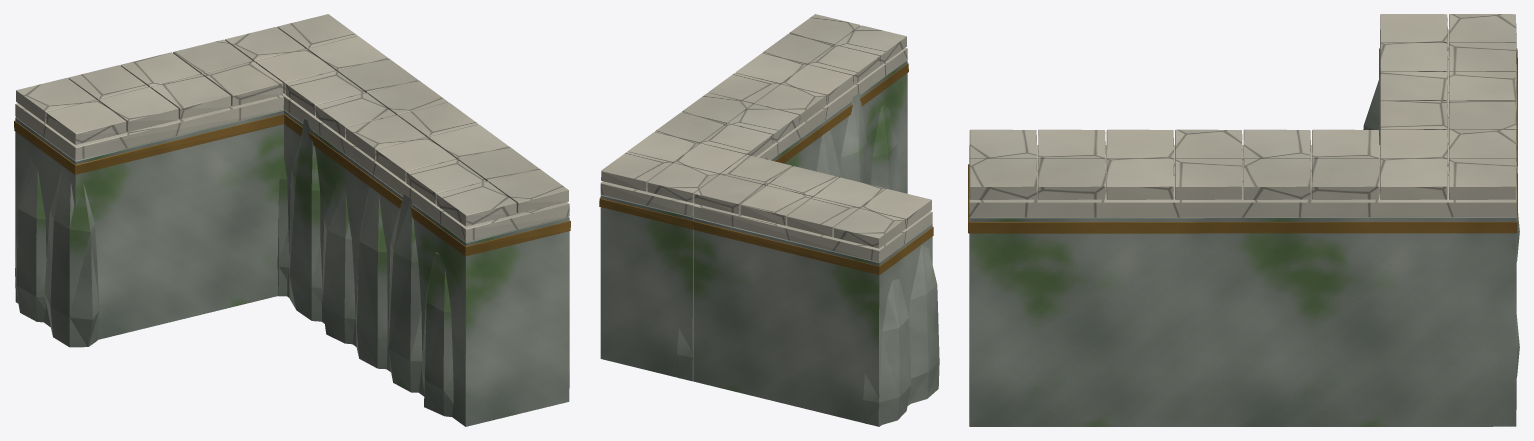
File: t03_shore_inner_lod1.fbx
3 views of the same model, side by side, from view 1: azimuth 30°, elevation 25°; view 2: azimuth 150°, elevation 25°; view 3: azimuth 270°, elevation 25° (orthographic). The views are drawn at different scales.
Visible parts, largest first — view 1: t03_shore_inner.005; view 2: t03_shore_inner.005; view 3: t03_shore_inner.005.
Part boxes in pixels (box(x1,y1,x2,y2)): t03_shore_inner.005: box(14, 14, 570, 426); t03_shore_inner.005: box(599, 14, 939, 426); t03_shore_inner.005: box(968, 14, 1519, 426).
Bounding box in the file's own units: 51586 × 39763 × 24779.
